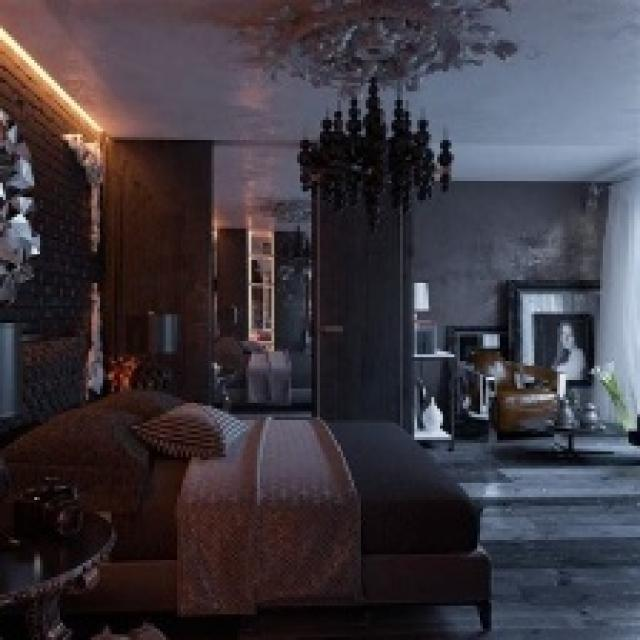Bed: (0, 385, 491, 631)
